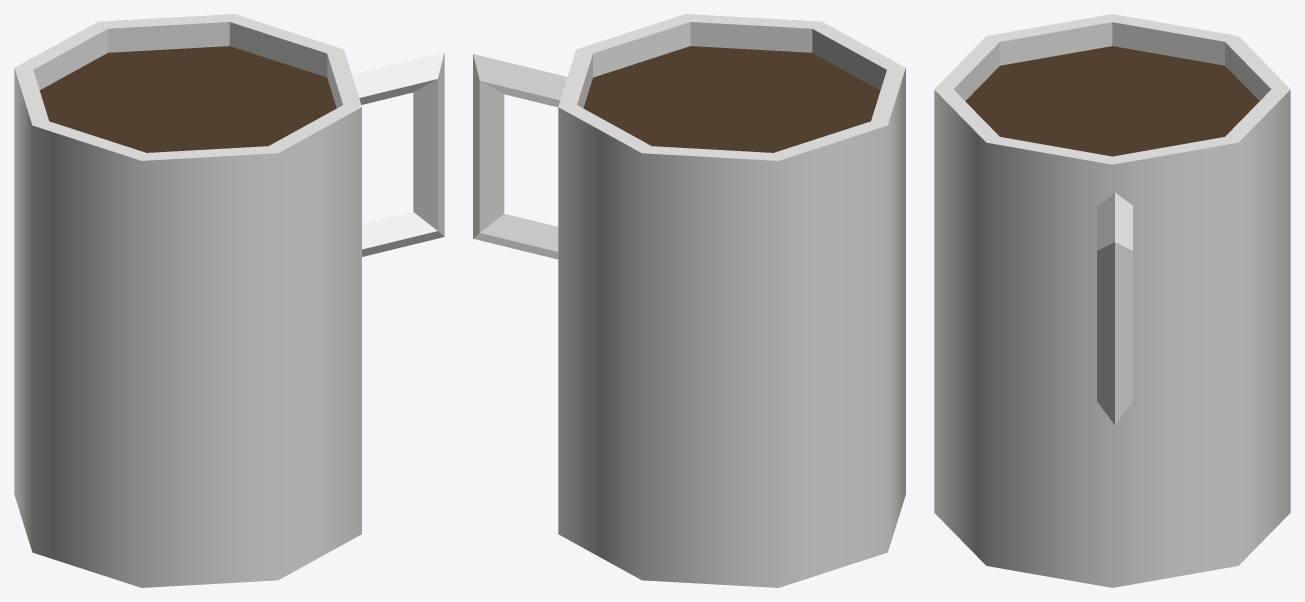
The model's file is SM_coffee.fbx.
3 views of the same model, side by side, from view 1: azimuth 30°, elevation 25°; view 2: azimuth 150°, elevation 25°; view 3: azimuth 270°, elevation 25° (orthographic).
Parts seen in each view (by area): view 1: Line013; view 2: Line013; view 3: Line013.
Boxes of the visible parts, x1,y1,x2,y2 form: Line013: (14,14,444,587); Line013: (473,14,905,587); Line013: (934,14,1290,587).
Size of the model in its own units: 6 by 4.52 by 5.92.
